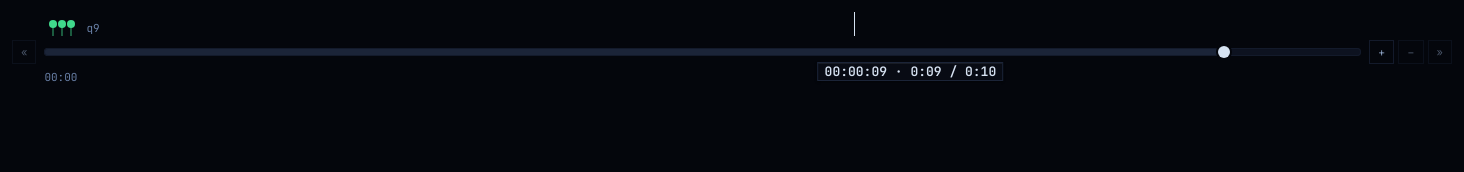
Test case: TideDock — zoom-out and window-shift affordances (ruling 10) › zooming in enables zoom-out and (when off-centre) a shift direction
Click the button named "Zoom in on the playhead". click: (1382, 52)
box: [1369,40,1394,64]
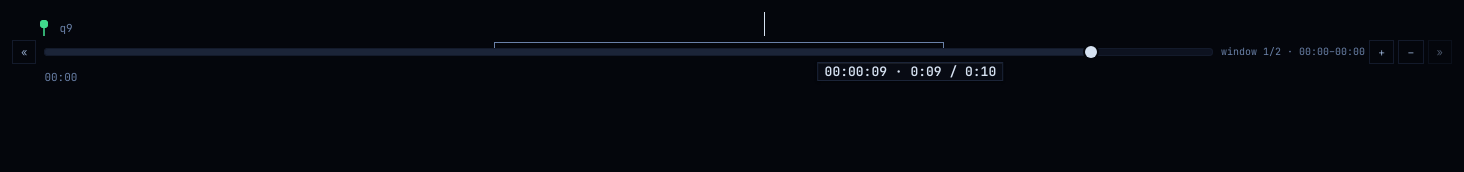
Expected: the button named "Zoom out" is enabled, [1398,40,1424,64]
Expected: the button named "Shift window earlier" is enabled, [12,40,36,64]
